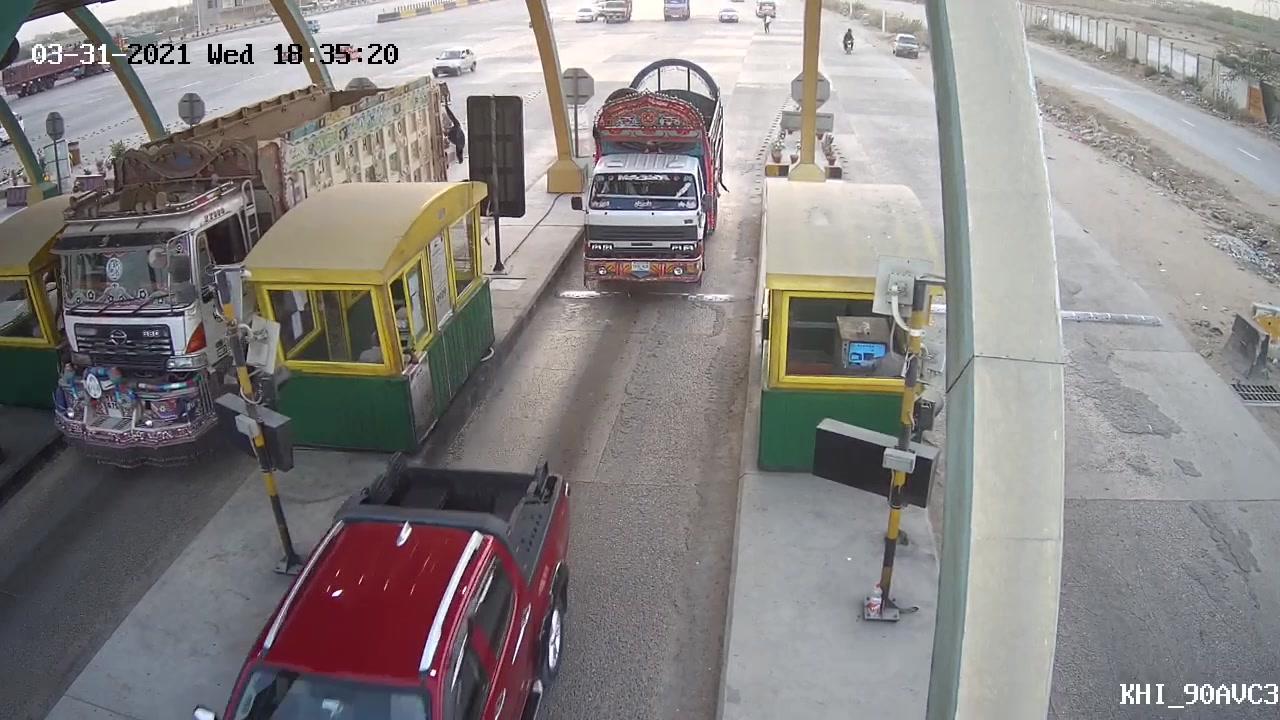F3: (556, 58, 732, 304)
